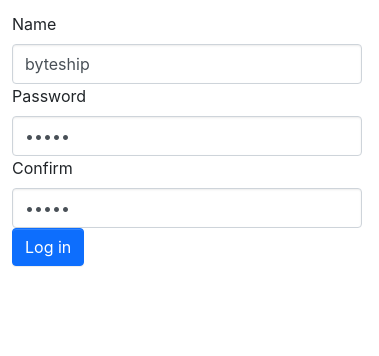
Scenario: testing Form component › submit form with invalid values should show the error message
Clear the field showing "byteship" at (187, 64), box top-left (12, 44), bottom-right (362, 84)
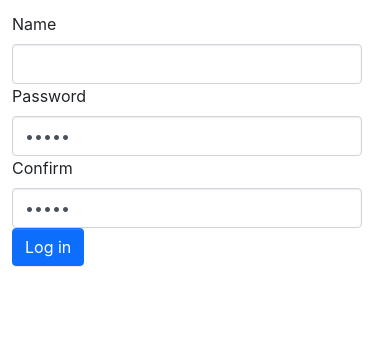
Clear the password field showing "12345" below "Password" at (187, 136), box top-left (12, 116), bottom-right (362, 156)
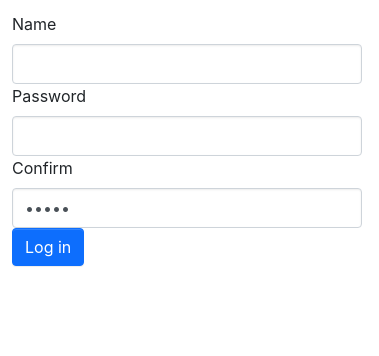
Click the button "Log in" at (48, 247), box top-left (12, 228), bottom-right (84, 266)
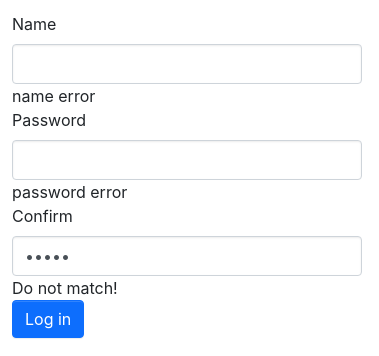
expect the text "name error" is shown: met, box top-left (12, 86), bottom-right (95, 106)
expect the text "password error" is shown: met, box top-left (12, 182), bottom-right (127, 202)
